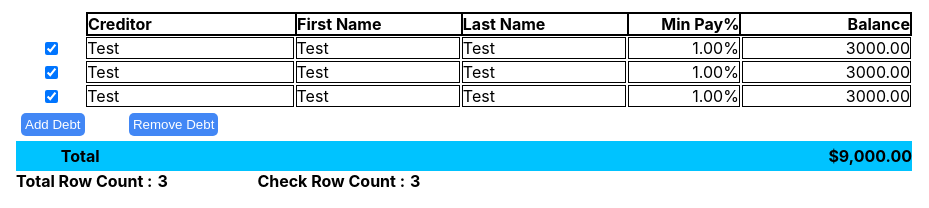
Scenario: React Tests › If a user then clicks that checkmark again, the check row count is incremented and the total is incremented by that row's balance.
Step 1. Click the 3rd checkbox → click(51, 96), box [45,90,58,102]
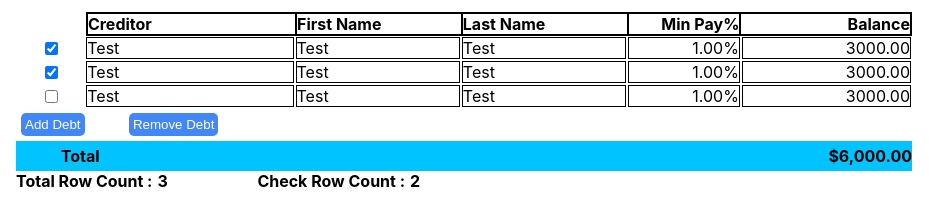
Expected: the text with test id "rowCount" reads "3", [158,171,168,191]
Now the text with test id "checkCount" reads "2", box [410,171,420,191]
Step 2. Click the 3rd checkbox → click(51, 96), box [45,90,58,102]
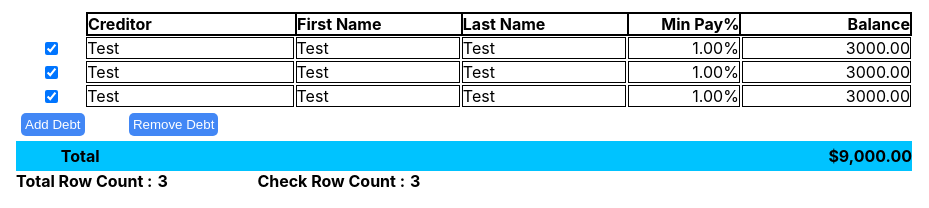
Expected: the text with test id "rowCount" reads "3", [158,171,168,191]
Now the text with test id "checkCount" reads "3", box [410,171,420,191]
